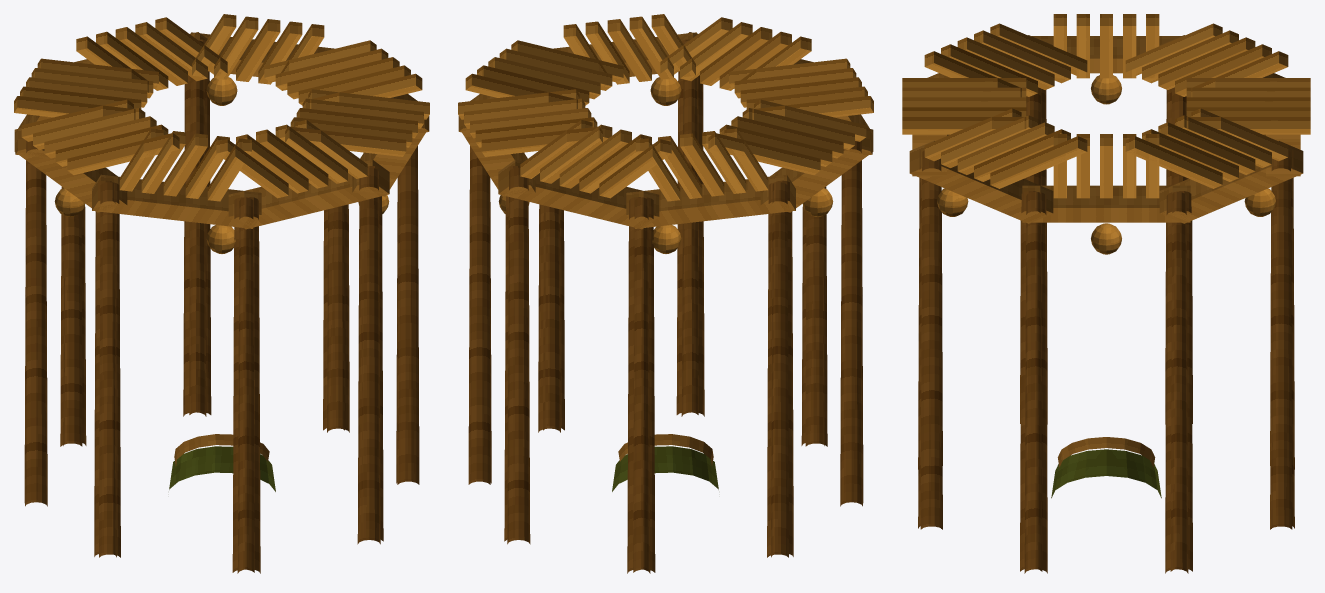
File: tiki_environment.gltf
3 renders of one model, left to right at view 1: azimuth 30°, elevation 25°; view 2: azimuth 150°, elevation 25°; view 3: azimuth 270°, elevation 25°, orthographic.
Visible parts, largest first — view 1: Structural bay 5, Structural bay 4, Structural bay 3, Structural bay 6, Structural bay 2, Structural bay 7, Structural bay 1, Structural bay 8, Centerpiece, Decoration 6, Decoration 3, Decoration 2; view 2: Structural bay 1, Structural bay 2, Structural bay 3, Structural bay 8, Structural bay 7, Structural bay 4, Structural bay 5, Structural bay 6, Centerpiece, Decoration 4, Decoration 1, Decoration 2; view 3: Structural bay 7, Structural bay 6, Structural bay 8, Structural bay 1, Structural bay 5, Structural bay 2, Structural bay 4, Structural bay 3, Centerpiece, Decoration 5, Decoration 2, Decoration 4 (+1 smaller).
Part boxes in pixels (<box>): Structural bay 5: <box>216,120,389,573</box>; Structural bay 4: <box>92,128,261,572</box>; Structural bay 3: <box>14,99,179,557</box>; Structural bay 6: <box>285,89,429,541</box>; Structural bay 2: <box>14,58,158,502</box>; Structural bay 7: <box>264,40,429,483</box>; Structural bay 1: <box>63,17,227,445</box>; Structural bay 8: <box>189,14,344,430</box>; Centerpiece: <box>169,434,275,491</box>; Decoration 6: <box>206,77,237,105</box>; Decoration 3: <box>206,225,235,253</box>; Decoration 2: <box>54,188,85,216</box>; Structural bay 1: <box>498,120,671,573</box>; Structural bay 2: <box>626,128,795,572</box>; Structural bay 3: <box>708,99,873,557</box>; Structural bay 8: <box>458,89,602,541</box>; Structural bay 7: <box>458,40,623,483</box>; Structural bay 4: <box>729,58,873,502</box>; Structural bay 5: <box>660,17,824,445</box>; Structural bay 6: <box>543,14,698,430</box>; Centerpiece: <box>612,434,718,491</box>; Decoration 4: <box>650,77,681,105</box>; Decoration 1: <box>652,225,681,253</box>; Decoration 2: <box>802,188,833,216</box>; Structural bay 7: <box>1022,134,1190,573</box>; Structural bay 6: <box>909,108,1087,571</box>; Structural bay 8: <box>1125,108,1303,571</box>; Structural bay 1: <box>1186,78,1310,528</box>; Structural bay 5: <box>902,78,1026,528</box>; Structural bay 2: <box>1125,23,1288,465</box>; Structural bay 4: <box>924,23,1087,465</box>; Structural bay 3: <box>1025,14,1187,424</box>; Centerpiece: <box>1051,437,1161,498</box>; Decoration 5: <box>1091,223,1121,254</box>; Decoration 2: <box>1091,75,1121,104</box>; Decoration 4: <box>937,188,968,216</box>.
Bounding box in the file's own units: 4.94 × 5.33 × 4.94.
Materials: 4 (4 with a texture image).
